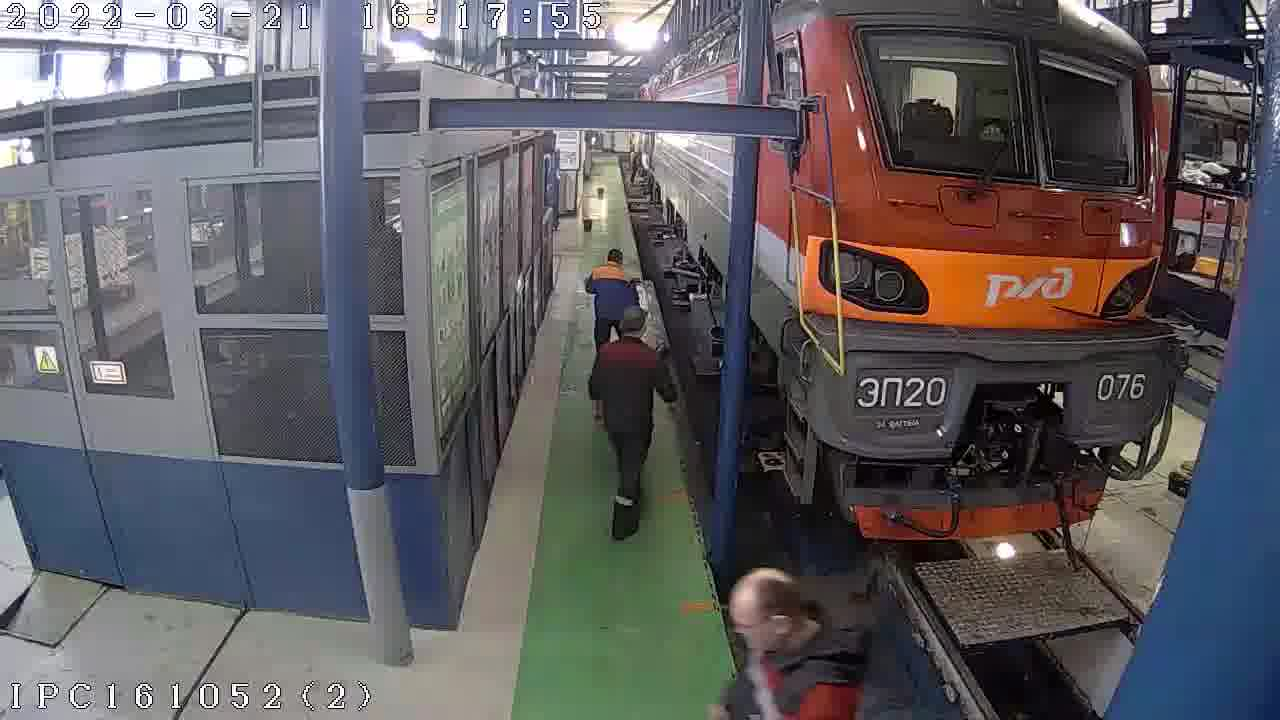person: (686, 558, 896, 720), (571, 299, 689, 541), (584, 241, 639, 360), (622, 149, 639, 190)
worker: (639, 0, 1248, 543)
